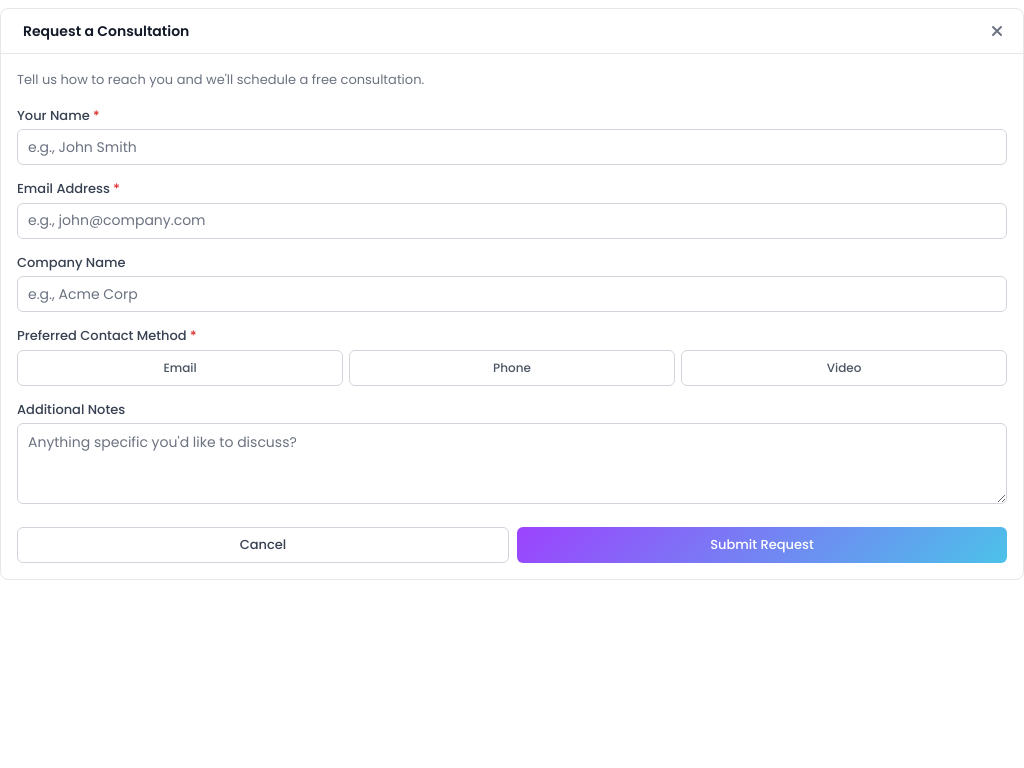
Test: ConsultationRequestForm › Validation › should validate name minimum length
Type "A" into the field labelled "Your Name" at (512, 147), box [17, 129, 1007, 165]
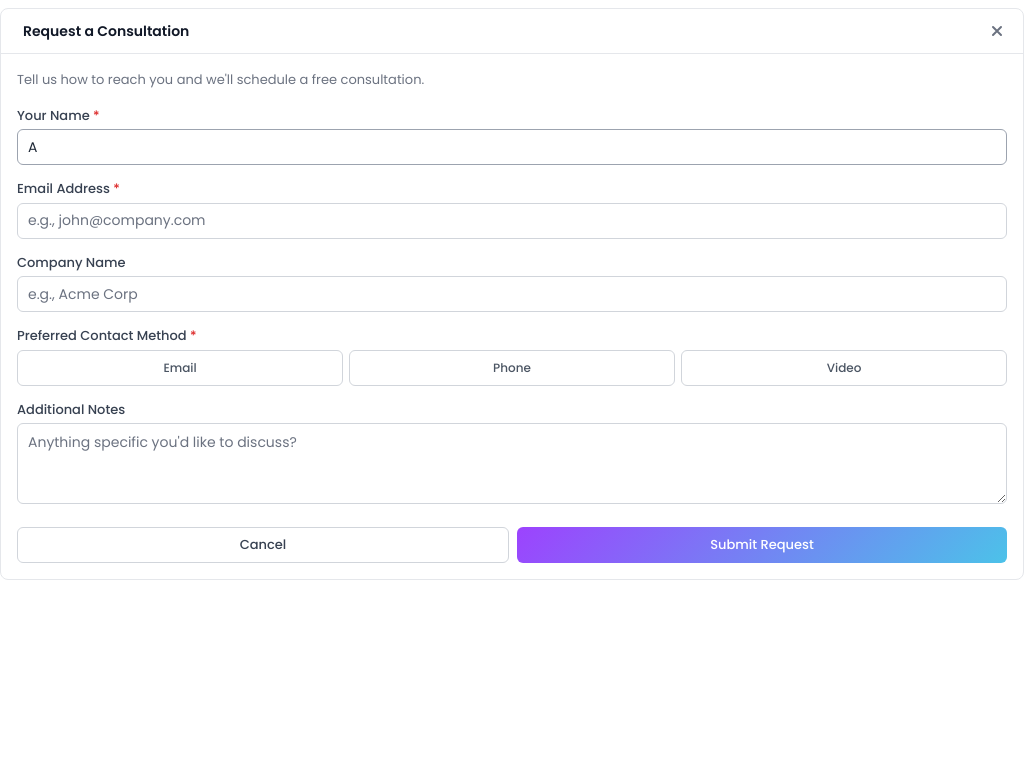
Press Tab
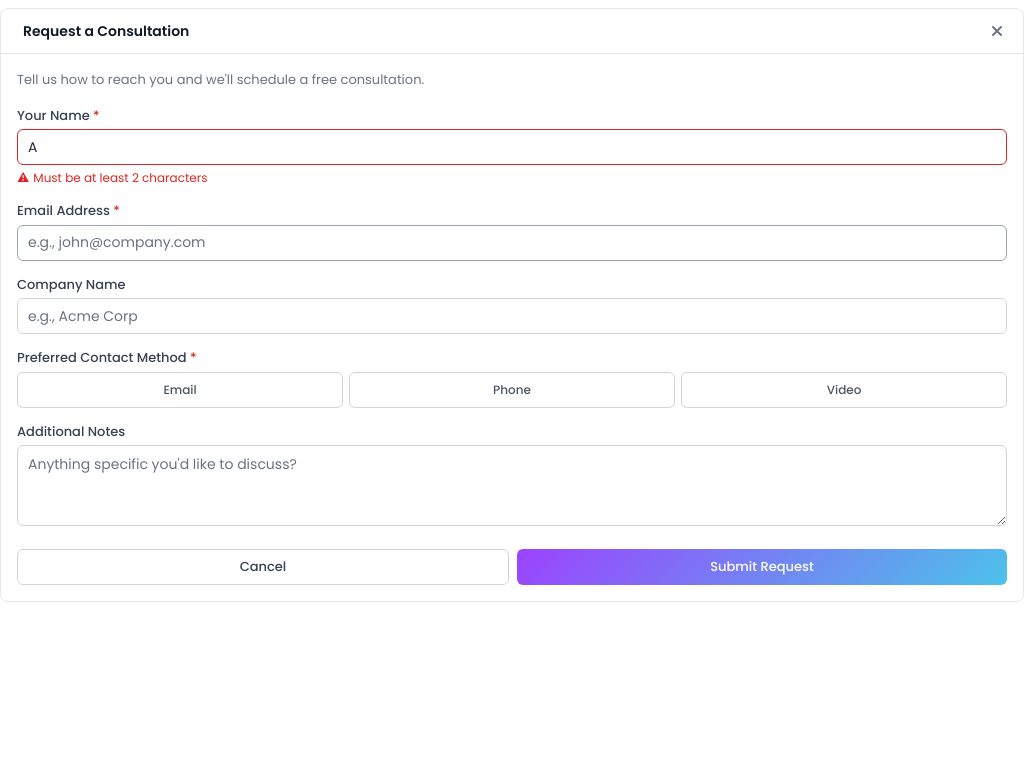
expect the text "⚠ Must be at least 2 characters" is shown: met, box [17, 169, 208, 186]
